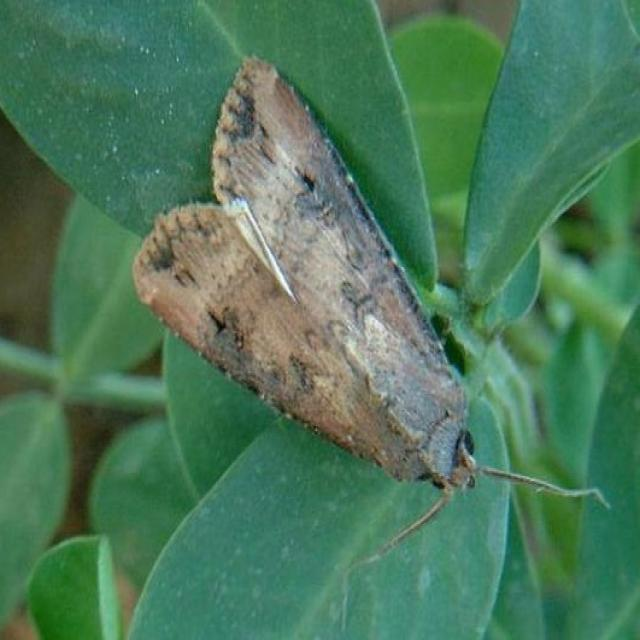black cutworm: (131, 50, 486, 505)
